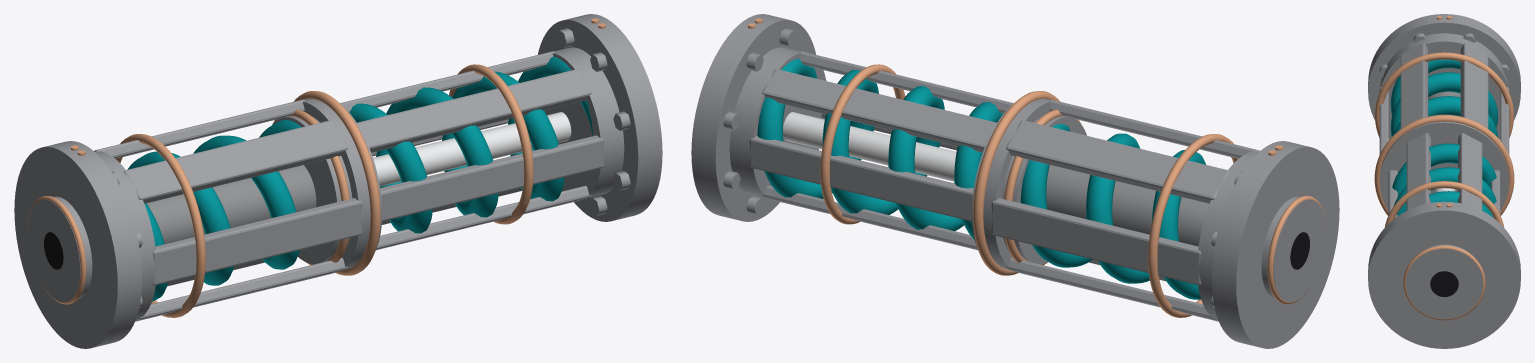
Rendered from offroad_suspension_2.glb.
3 renders of one model, left to right at view 1: azimuth 30°, elevation 25°; view 2: azimuth 150°, elevation 25°; view 3: azimuth 270°, elevation 25°, orthographic. The views are drawn at different scales.
Visible parts, largest first — view 1: mountFlex, Stator, mount; view 2: mountFlex, Stator, mount; view 3: mountFlex, mount, Stator.
Part boxes in pixels (x1,y1,x2,y2): mountFlex: [94, 47, 624, 321]; Stator: [14, 141, 142, 348]; mount: [538, 14, 662, 221]; mountFlex: [729, 47, 1259, 321]; Stator: [1211, 141, 1339, 348]; mount: [691, 14, 815, 221]; mountFlex: [1374, 33, 1514, 226]; mount: [1368, 201, 1520, 348]; Stator: [1368, 14, 1520, 139].
Size of the model in its own units: 0.751 by 0.2382 by 0.236.
